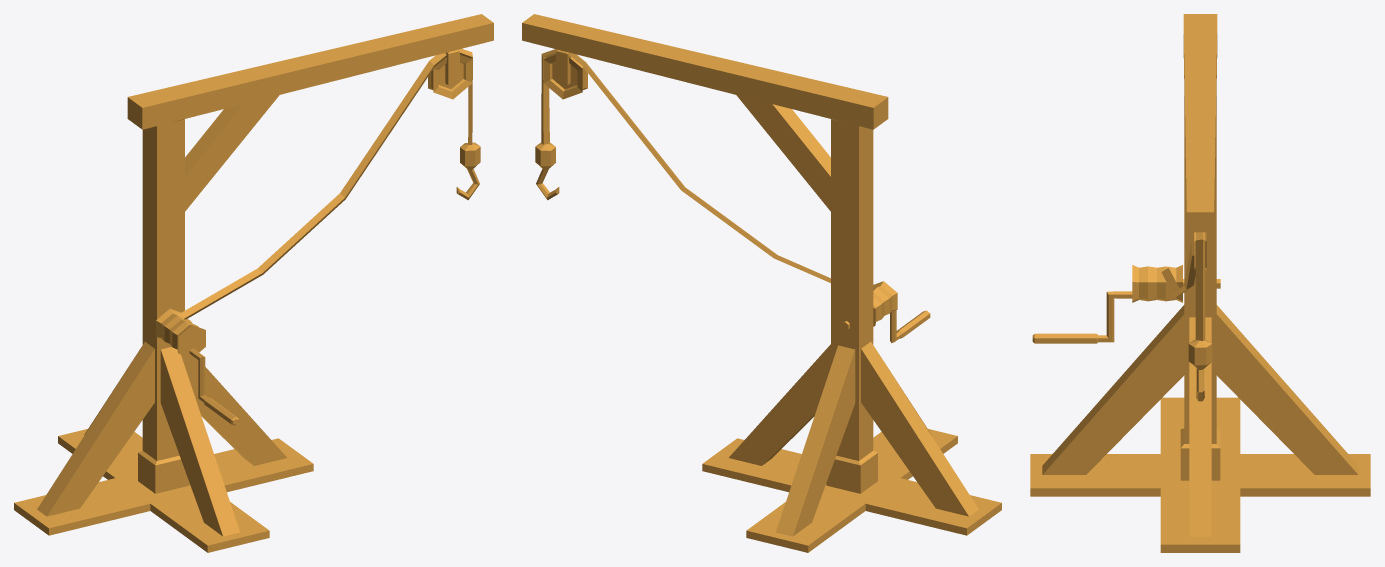
The model's file is crane-wood.fbx.
3 renders of one model, left to right at view 1: azimuth 30°, elevation 25°; view 2: azimuth 150°, elevation 25°; view 3: azimuth 270°, elevation 25°, orthographic. The views are drawn at different scales.
Parts seen in each view (by area): view 1: crane-wood; view 2: crane-wood; view 3: crane-wood.
Part boxes in pixels (left/top/right/bottom): crane-wood: left=14, top=14, right=493, bottom=552; crane-wood: left=522, top=14, right=1001, bottom=552; crane-wood: left=1030, top=14, right=1370, bottom=552.
Size of the model in its own units: 3.71 by 3.07 by 2.11.
